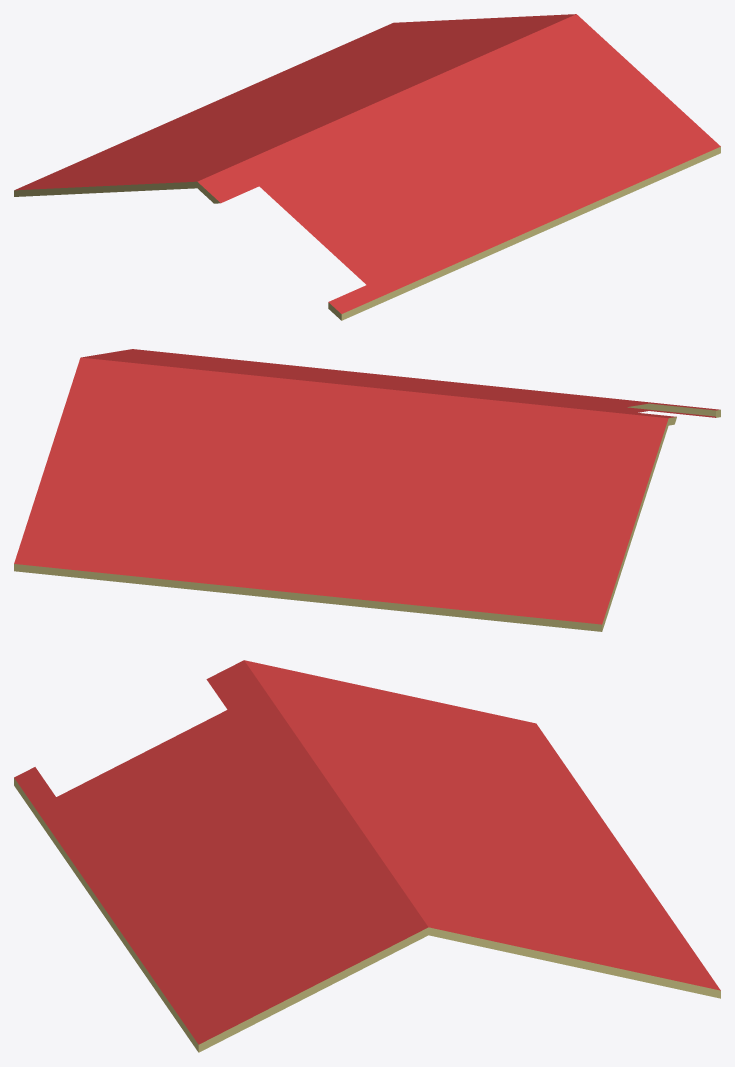
The picture shows the model from 3 angles, top to bottom: view 1: azimuth 30°, elevation 25°; view 2: azimuth 150°, elevation 25°; view 3: azimuth 270°, elevation 25°; orthographic projection. The views are drawn at different scales.
Size of the model in its own units: 8.87 by 7.99 by 1.34.
